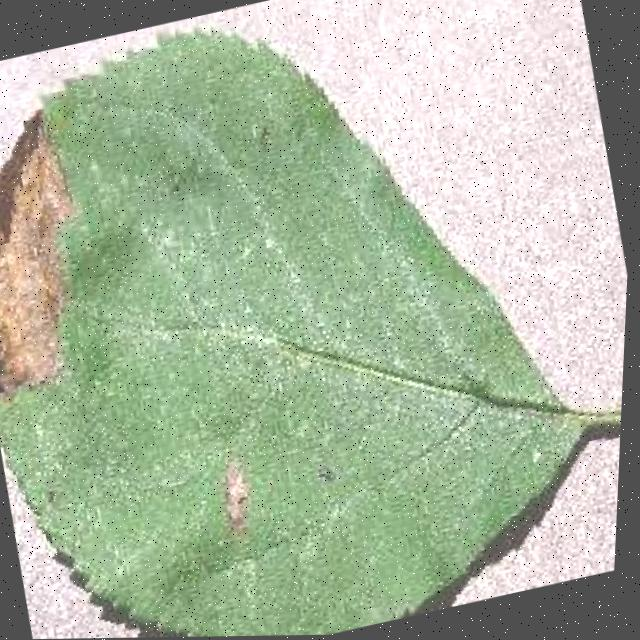black_rot: (0, 101, 128, 407), (196, 440, 269, 540)
